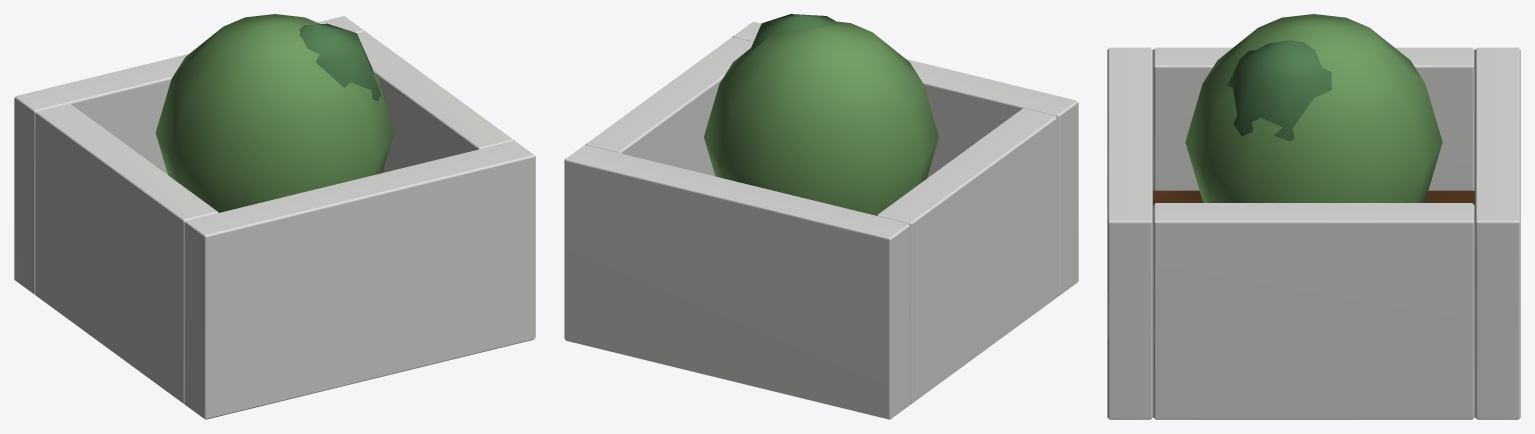
Rendered from Planter.fbx.
The picture shows the model from 3 angles, left to right: view 1: azimuth 30°, elevation 25°; view 2: azimuth 150°, elevation 25°; view 3: azimuth 270°, elevation 25°; orthographic projection. The views are drawn at different scales.
Parts seen in each view (by area): view 1: LOD0; view 2: LOD0; view 3: LOD0.
Part boxes in pixels (<box>): LOD0: <box>14,14,535,419</box>; LOD0: <box>564,14,1078,419</box>; LOD0: <box>1107,14,1520,419</box>.
Size of what is drawn, in the model's own units: 90 by 74 by 90.
